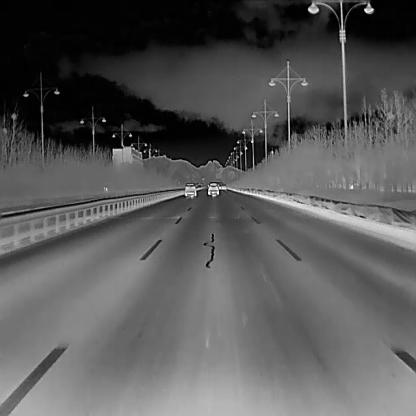car: (206, 181, 219, 197), (184, 181, 196, 196), (221, 184, 226, 190)
